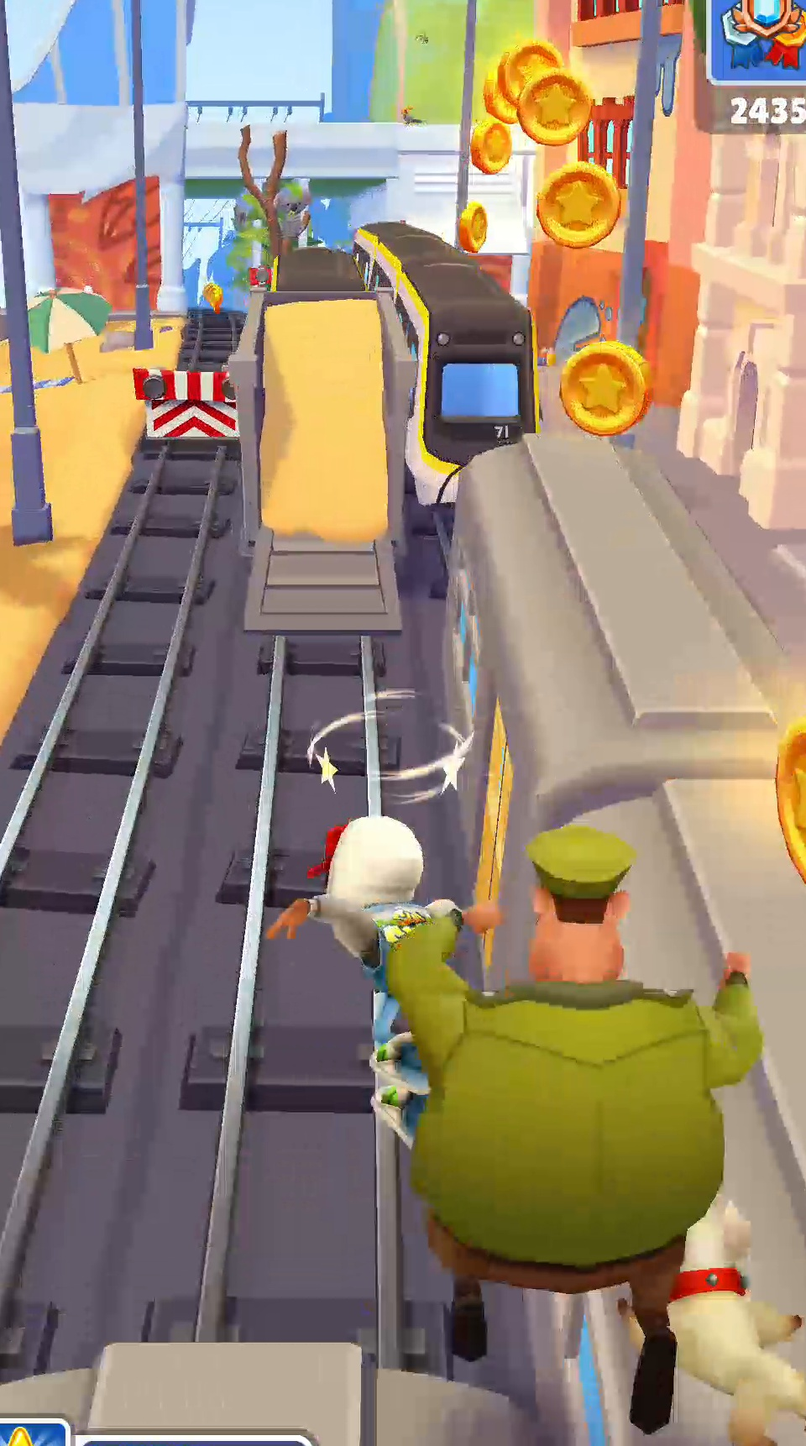block pillar: (228, 127, 310, 293)
climber: (247, 299, 393, 632)
police: (385, 825, 762, 1433)
roll blocker: (133, 368, 238, 442)
train: (443, 432, 805, 1318), (353, 223, 539, 505)
